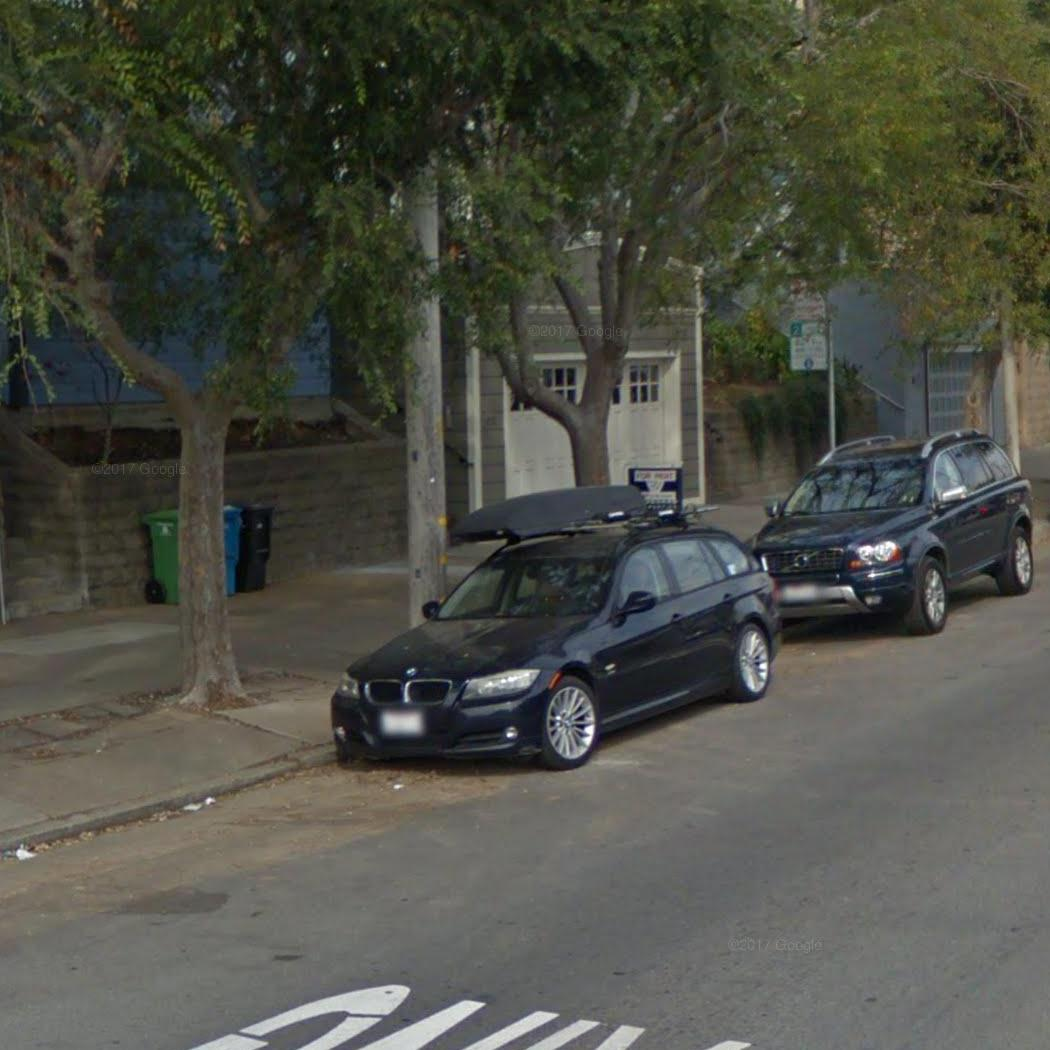2 Hour Parking: (786, 319, 831, 372)
No Parking: (788, 275, 831, 319)
